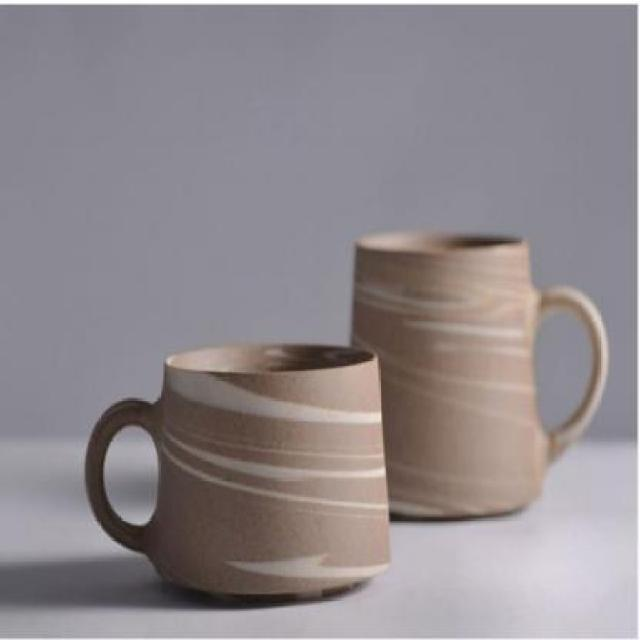cup: (76, 332, 407, 613)
